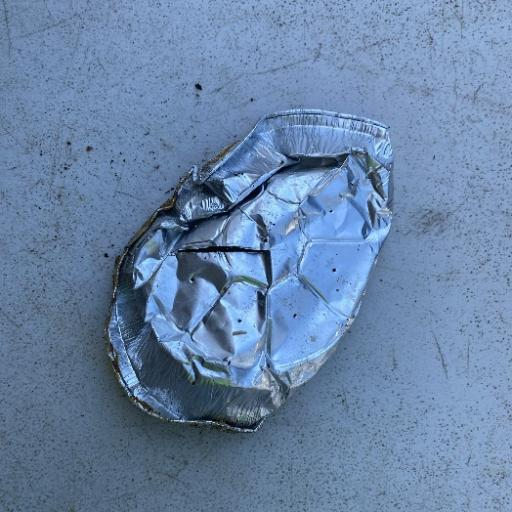Metal: (102, 106, 396, 434)
